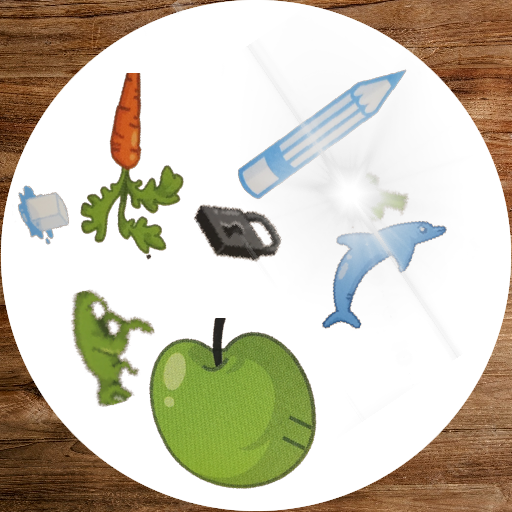apple_icon: (131, 318, 320, 507)
cactus_icon: (337, 162, 411, 236)
carrot_icon: (24, 73, 214, 263)
cube_icon: (12, 177, 81, 246)
dino_icon: (39, 289, 157, 407)
dolphin_icon: (300, 189, 454, 343)
lock_icon: (193, 186, 282, 275)
pen_icon: (236, 46, 408, 218)
